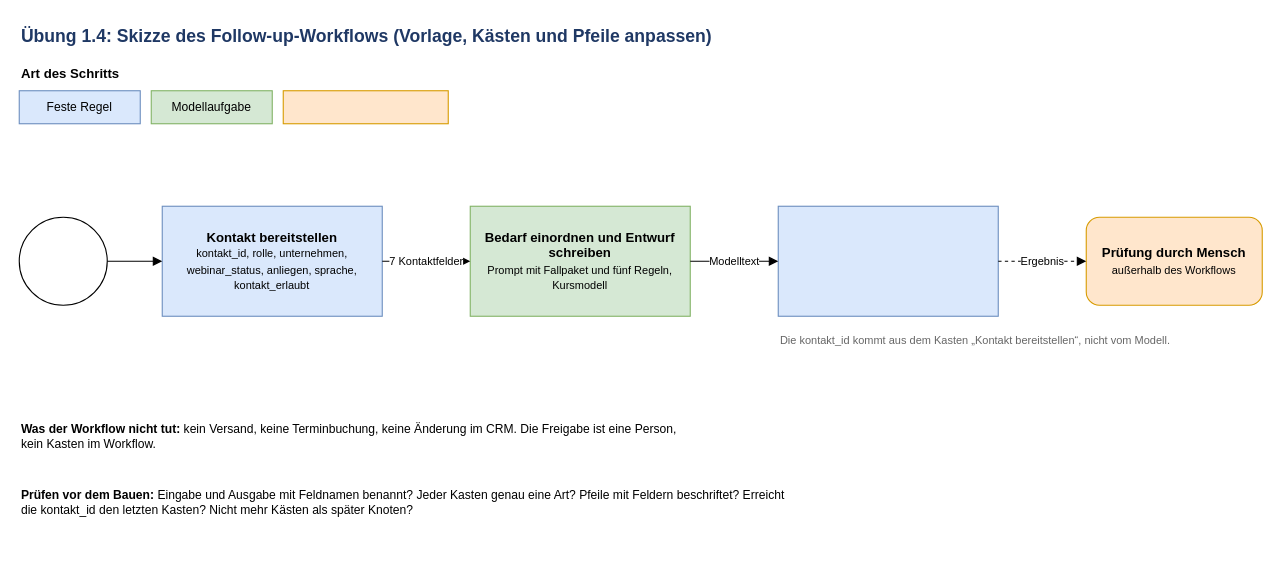
This 1282x565 diagram has some shape labels left out. Each missing label, with the box of its shape:
Ergebnis zur Prüfung ablegen kontakt_id, ergebnis, freigabe = offen: (777, 205, 998, 316)
Menschliche Entscheidung: (282, 90, 448, 124)
Start (manuell): (18, 216, 107, 305)
